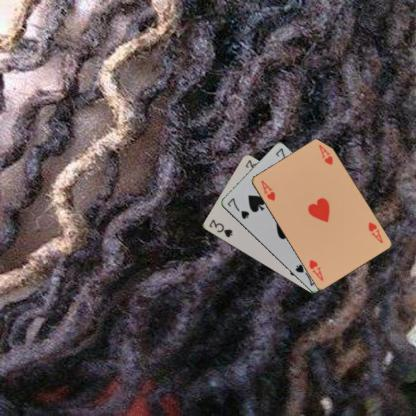3s: (206, 216, 234, 238)
7s: (224, 195, 250, 220)
Ah: (365, 220, 384, 244), (258, 177, 276, 202)
